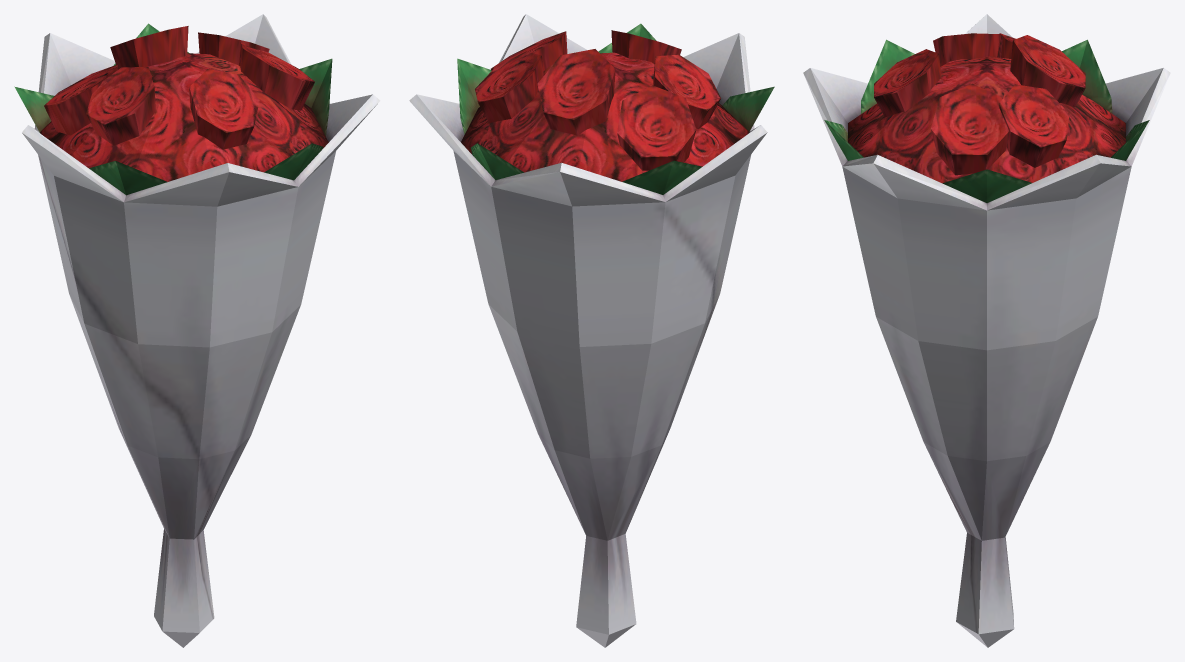
File: Wolf_starBouquet.obj
The picture shows the model from 3 angles, left to right: view 1: azimuth 30°, elevation 25°; view 2: azimuth 150°, elevation 25°; view 3: azimuth 270°, elevation 25°; orthographic projection.
Parts seen in each view (by area): view 1: Wolf_starBouquet_tri; view 2: Wolf_starBouquet_tri; view 3: Wolf_starBouquet_tri.
Part boxes in pixels (left/top/right/bottom): Wolf_starBouquet_tri: left=14, top=14, right=380, bottom=647; Wolf_starBouquet_tri: left=409, top=14, right=774, bottom=647; Wolf_starBouquet_tri: left=803, top=14, right=1170, bottom=647.
Bounding box in the file's own units: 0.4238 × 0.7947 × 0.4367.
Materials: 1 (1 with a texture image).
